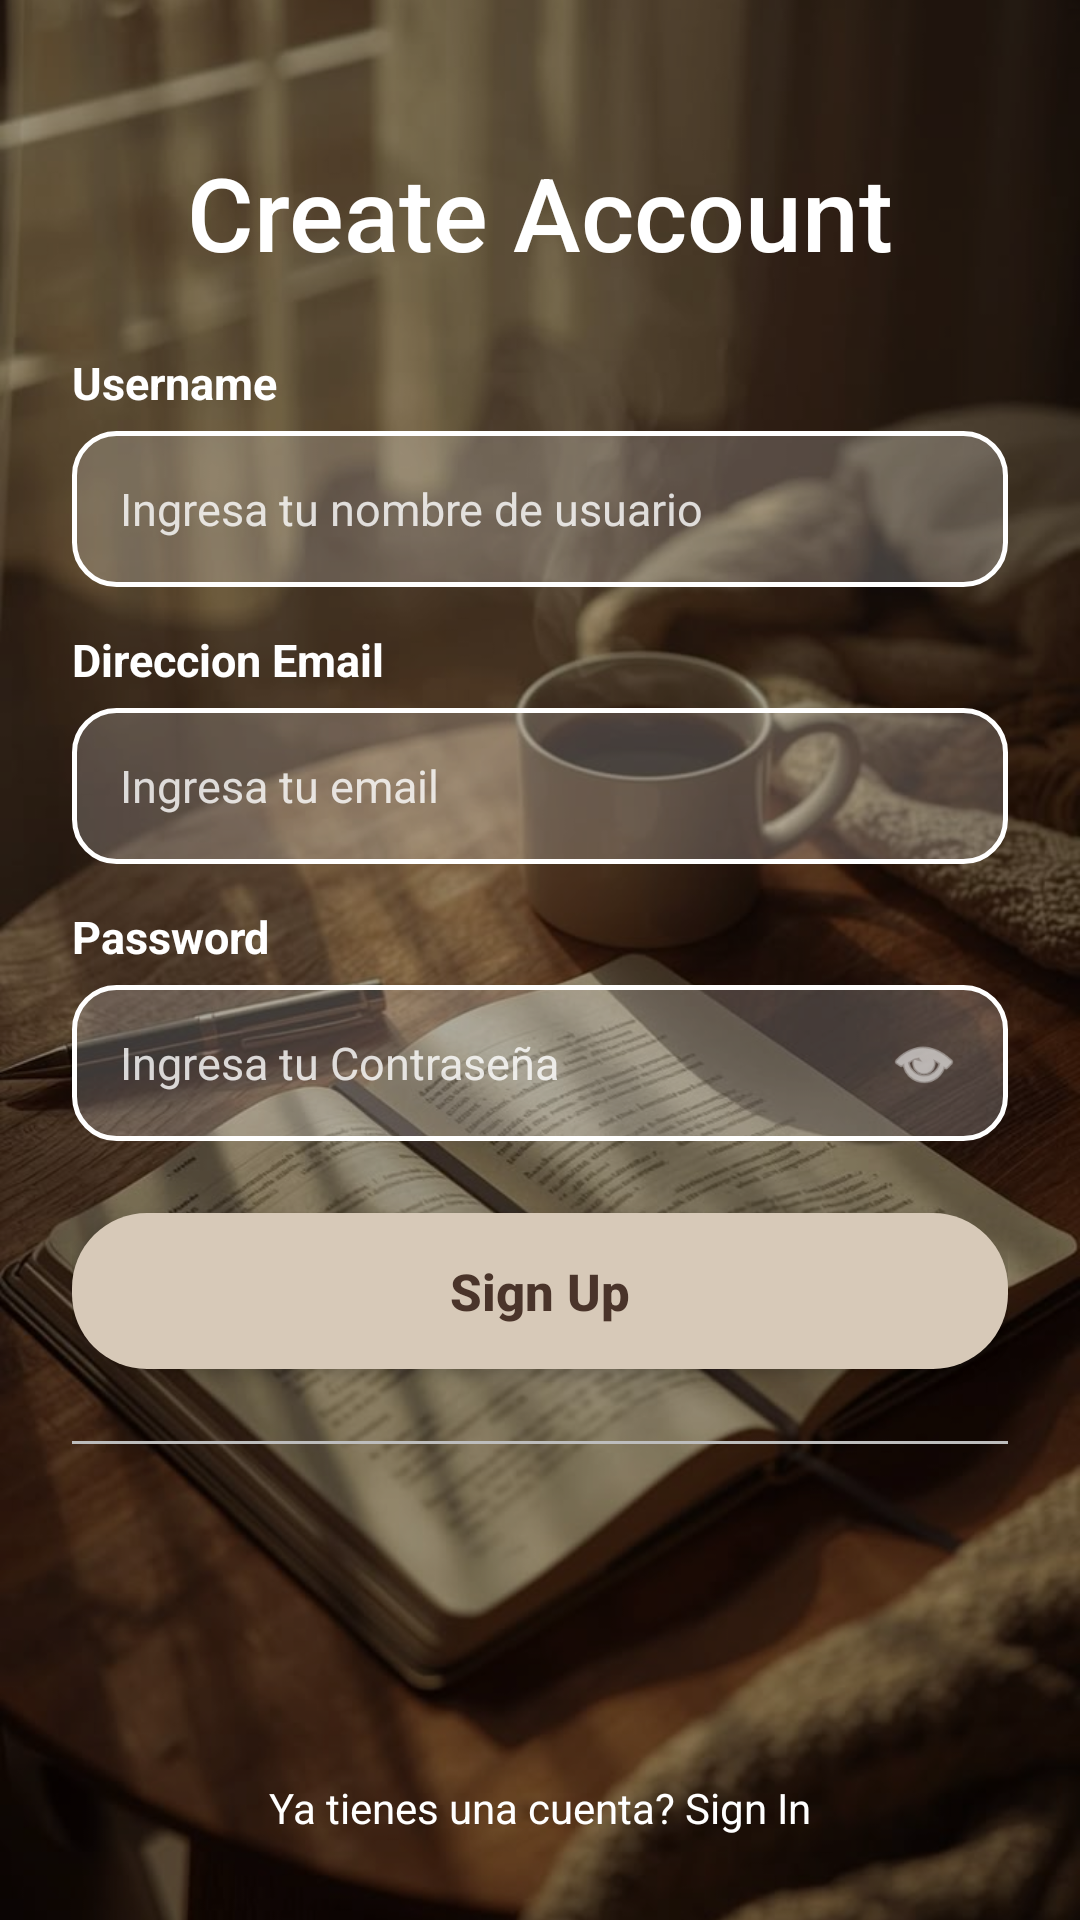

Screen size 1080 × 1920. Icon name, then its center in pixels as (x,y):
view: (924,1064)
